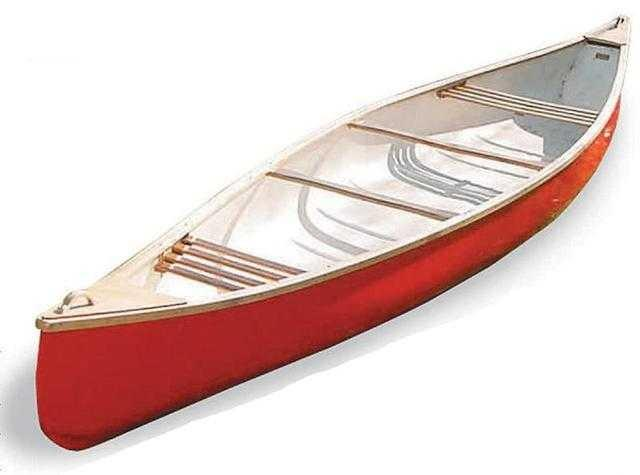kayak: (30, 21, 632, 455)
